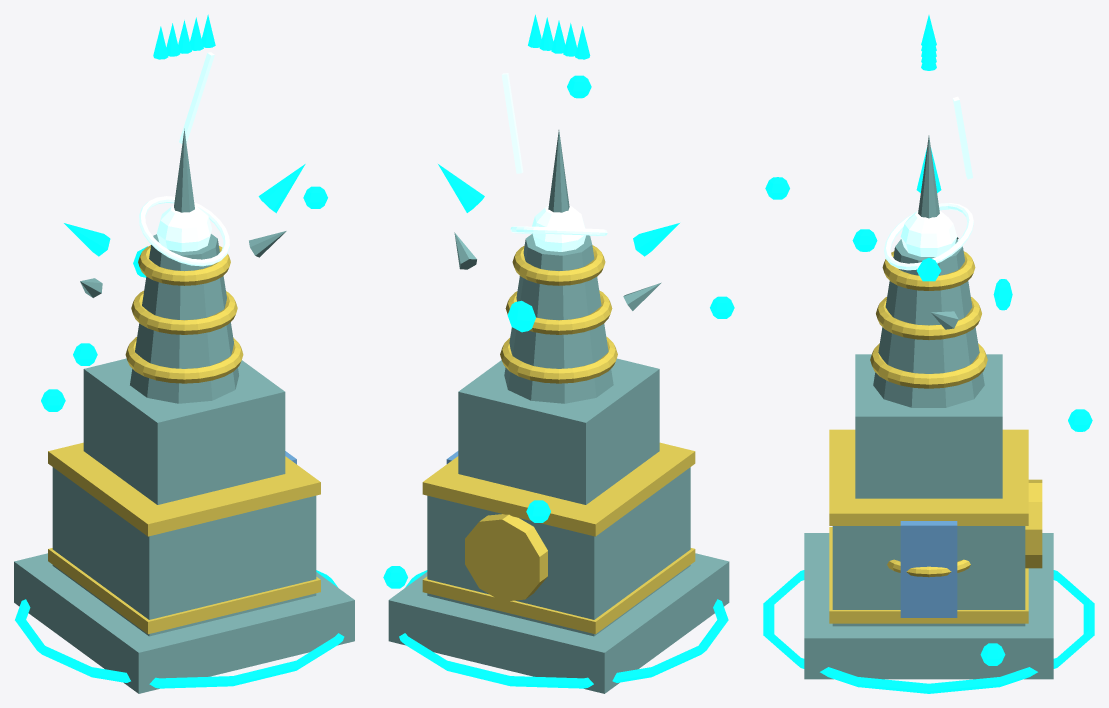
File: evolved_tesla.glb
The picture shows the model from 3 angles, left to right: view 1: azimuth 30°, elevation 25°; view 2: azimuth 150°, elevation 25°; view 3: azimuth 270°, elevation 25°; orthographic projection.
Visible parts, largest first — view 1: evolved_tesla; view 2: evolved_tesla; view 3: evolved_tesla.
Boxes of the visible parts, <box> form: evolved_tesla: <box>14,14,354,693</box>; evolved_tesla: <box>383,14,734,693</box>; evolved_tesla: <box>763,15,1094,693</box>.
Bounding box in the file's own units: 3.3 × 6.44 × 3.22.
